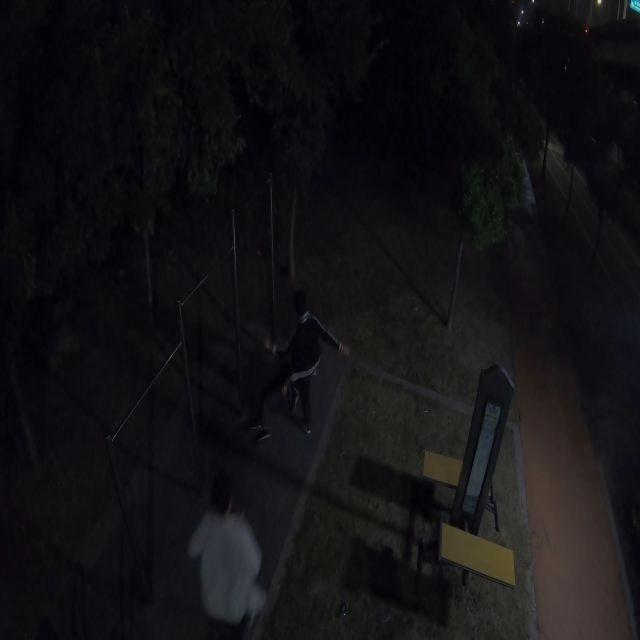fight: (240, 289, 352, 448)
non-fight: (178, 480, 277, 639)
